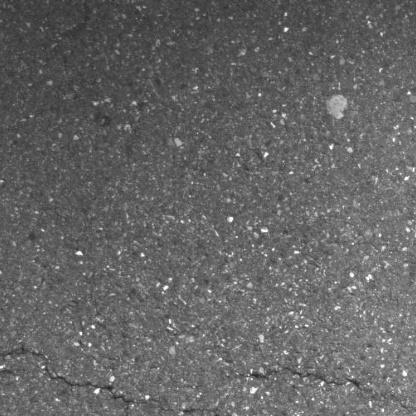Cracks: (0, 345, 153, 416), (239, 363, 367, 395), (158, 403, 227, 416), (0, 366, 19, 381)
